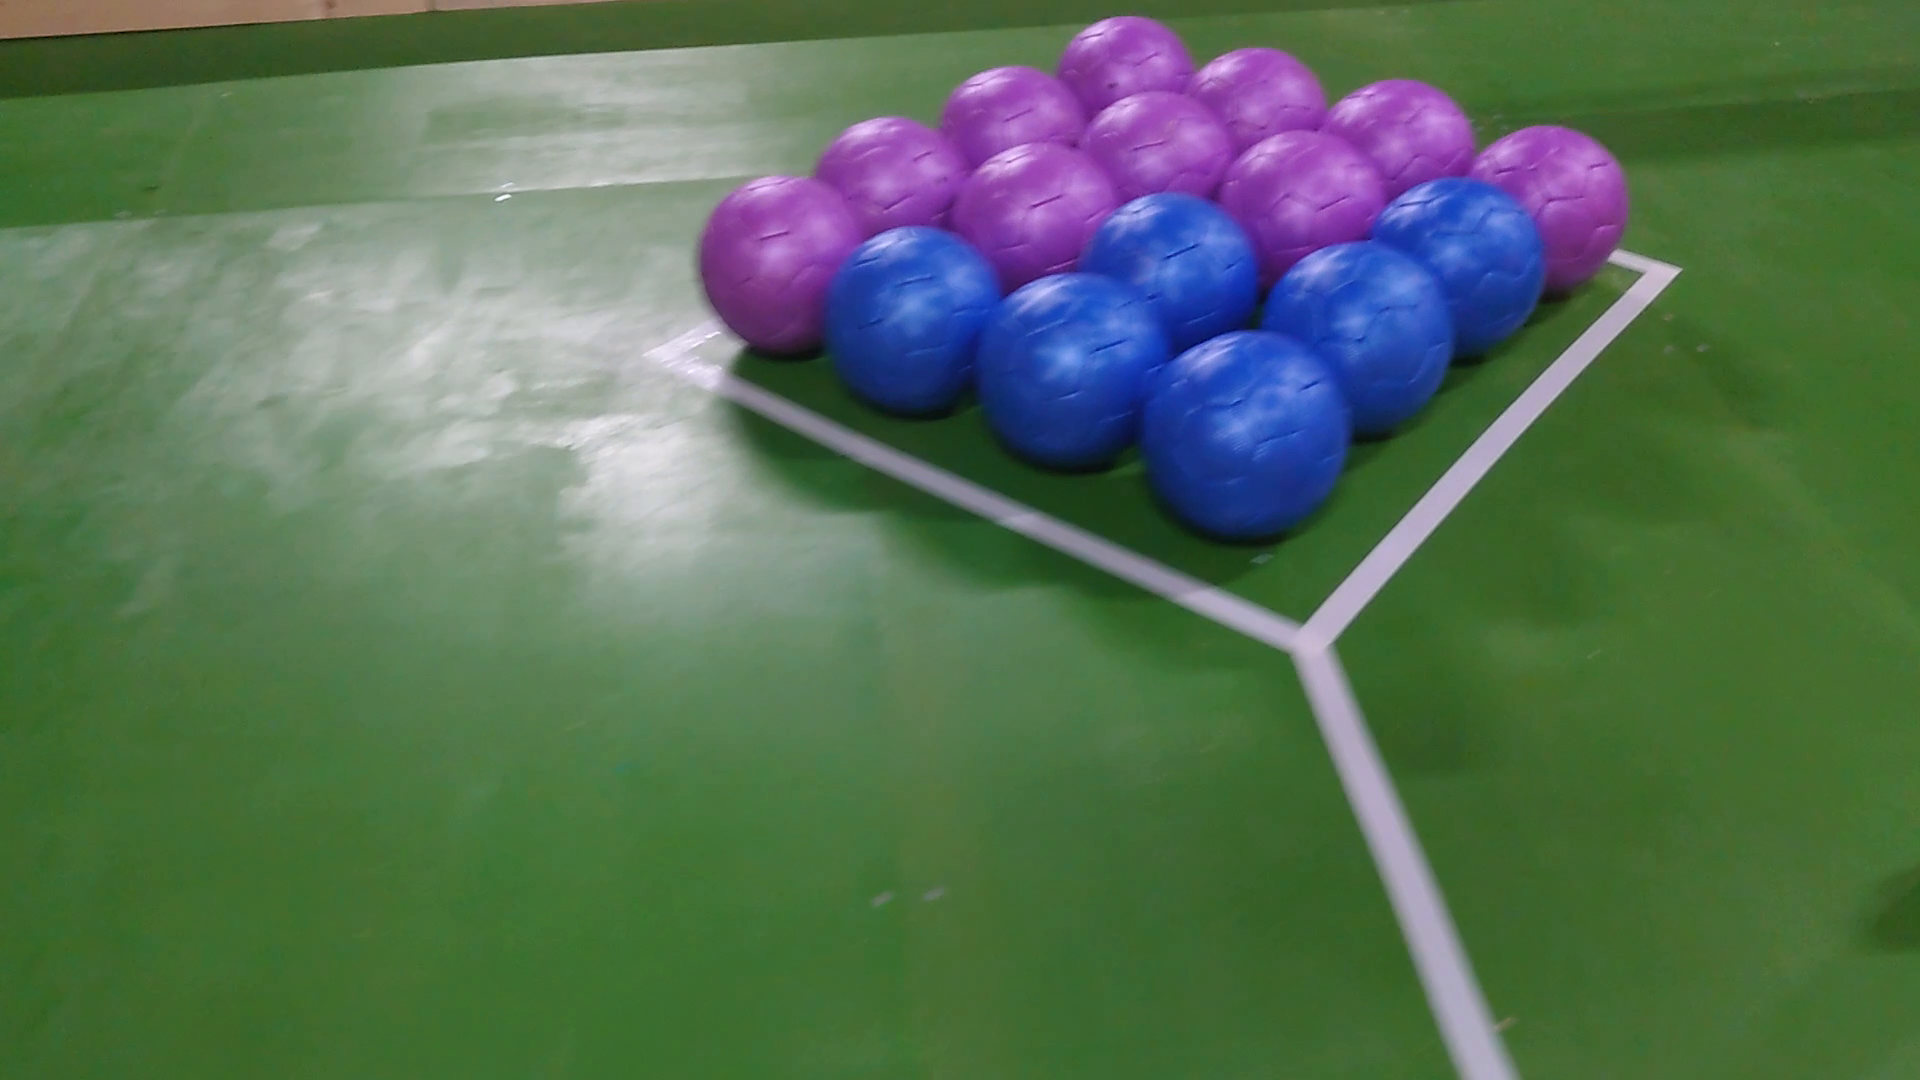blue: (1146, 327, 1352, 542), (982, 268, 1172, 471), (1267, 239, 1449, 431), (832, 228, 1009, 421), (1365, 177, 1542, 345), (1088, 193, 1257, 345)
purple: (699, 170, 876, 349), (1466, 128, 1633, 287), (953, 137, 1113, 265), (1221, 135, 1385, 258), (810, 111, 969, 235), (1081, 88, 1234, 196), (1319, 78, 1473, 183), (940, 66, 1091, 170), (1192, 46, 1329, 140), (1058, 13, 1195, 104)
